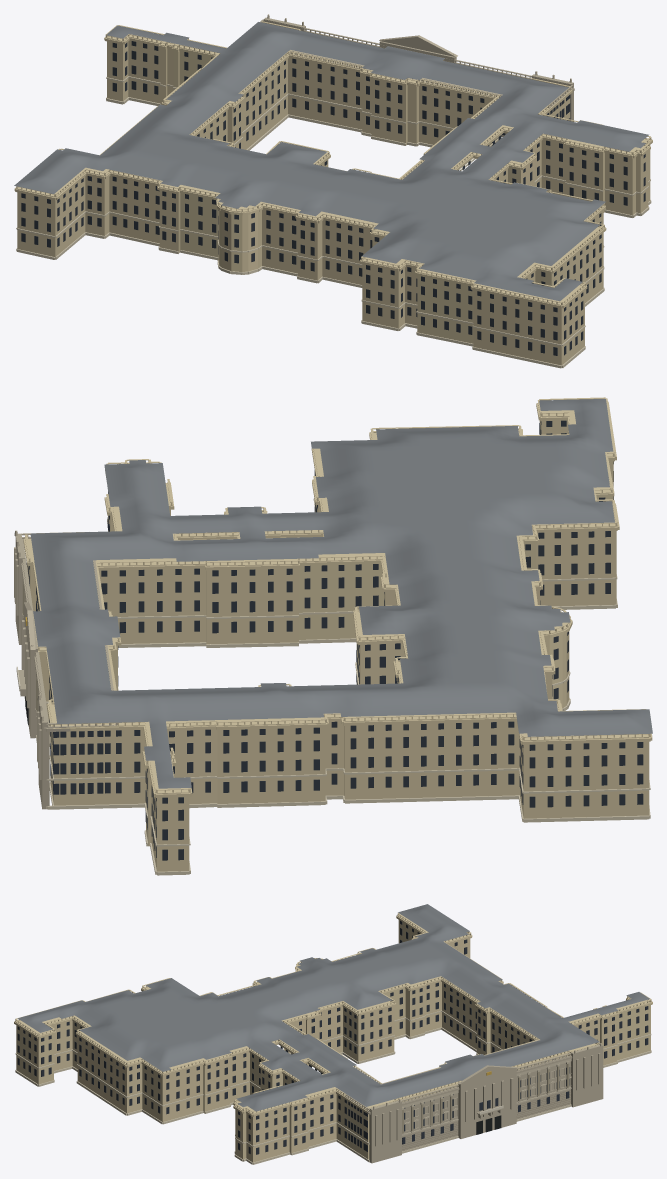
File: buckingham-site-b60.glb
3 renders of one model, top to bottom at view 1: azimuth 30°, elevation 25°; view 2: azimuth 150°, elevation 25°; view 3: azimuth 270°, elevation 25°, orthographic. The views are drawn at different scales.
Bounding box in the file's own units: 190 × 27.71 × 247.
